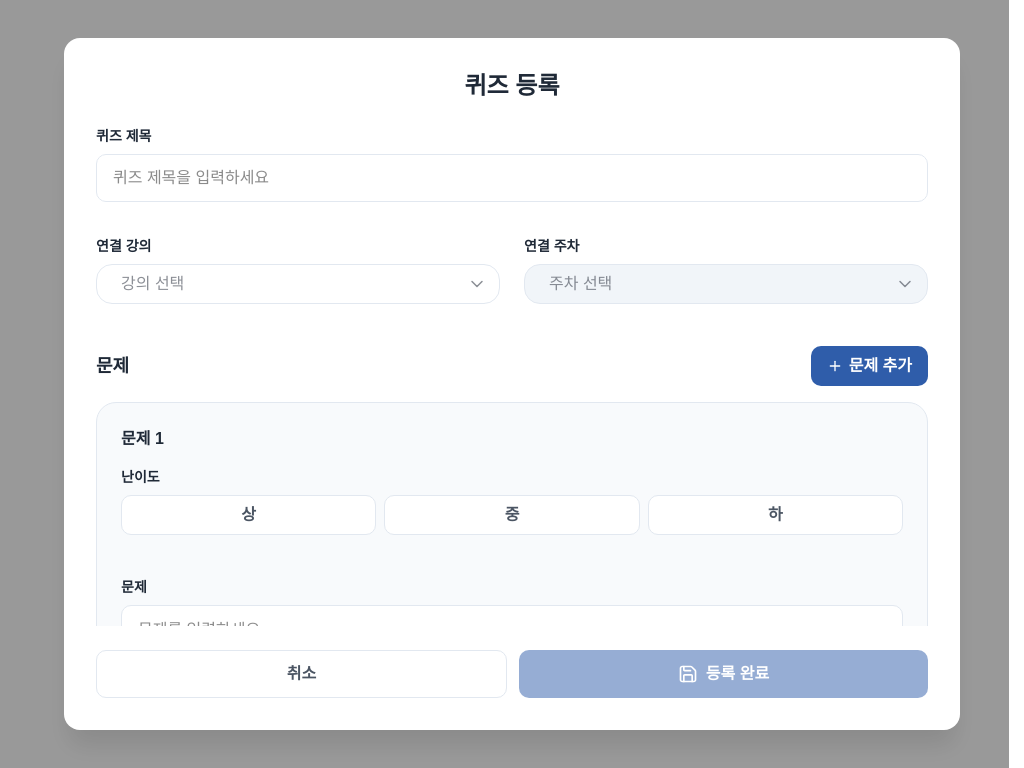
Test case: QuizFormModal — 퀴즈 등록 모달 통합 › 필수 빈칸 검증 › 빈 폼 제출 시 상단·문제 필드 에러 메시지 표시
Click the button "등록 완료" at (724, 674), box top-left (519, 650), bottom-right (928, 698)
(page scrolled)
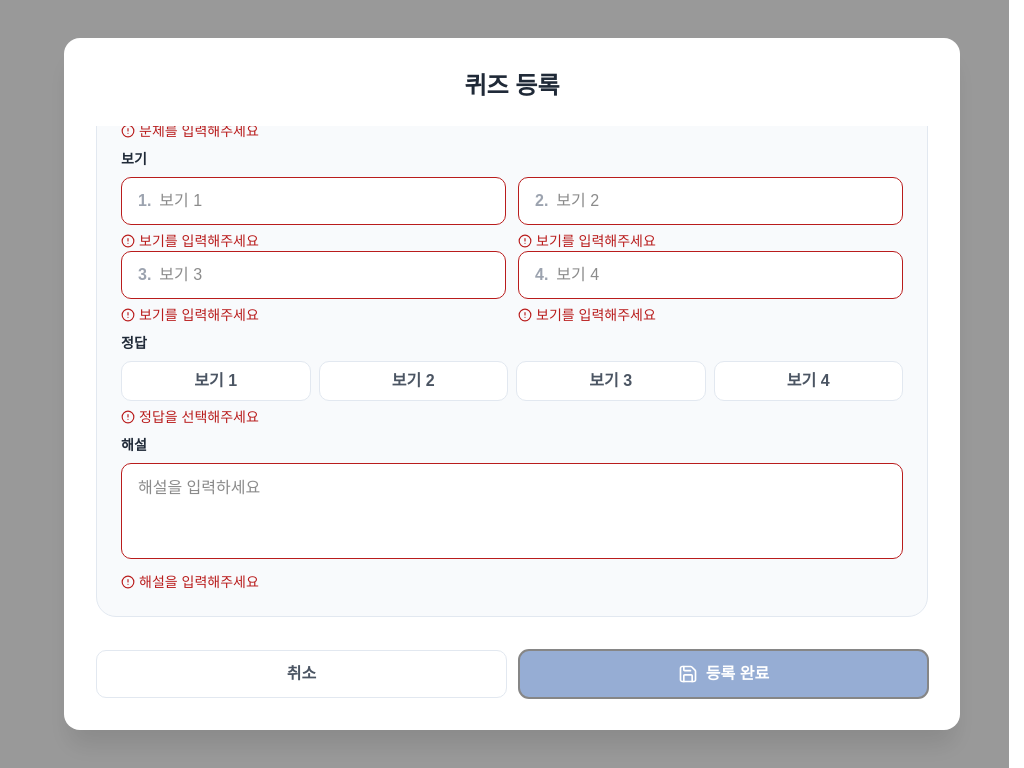
expect the text "문제를 입력해주세요" is shown: met, box top-left (139, 126), bottom-right (259, 141)
expect the text "보기를 입력해주세요" is shown 4 times: met, box top-left (139, 231), bottom-right (259, 251); top-left (536, 231), bottom-right (656, 251); top-left (139, 305), bottom-right (259, 325); top-left (536, 305), bottom-right (656, 325)
expect the text "정답을 선택해주세요" is shown: met, box top-left (139, 407), bottom-right (259, 427)
